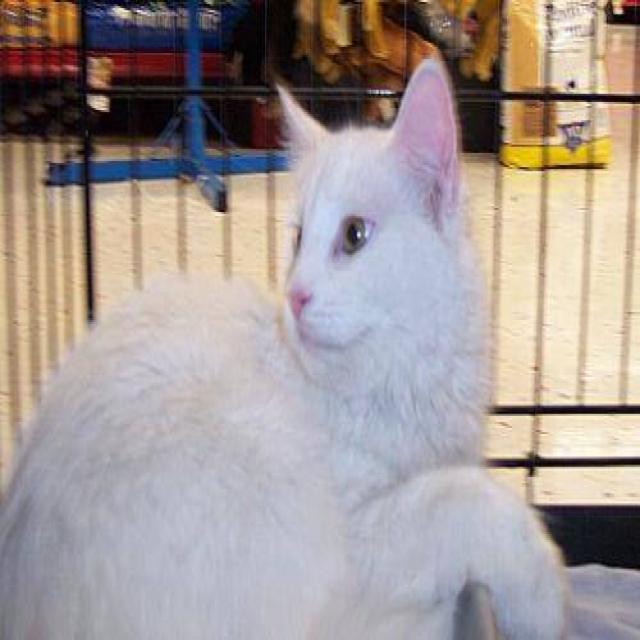cat: (0, 55, 572, 638)
